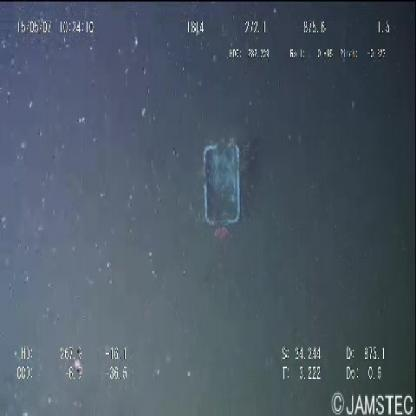Rác: (194, 128, 248, 243)
